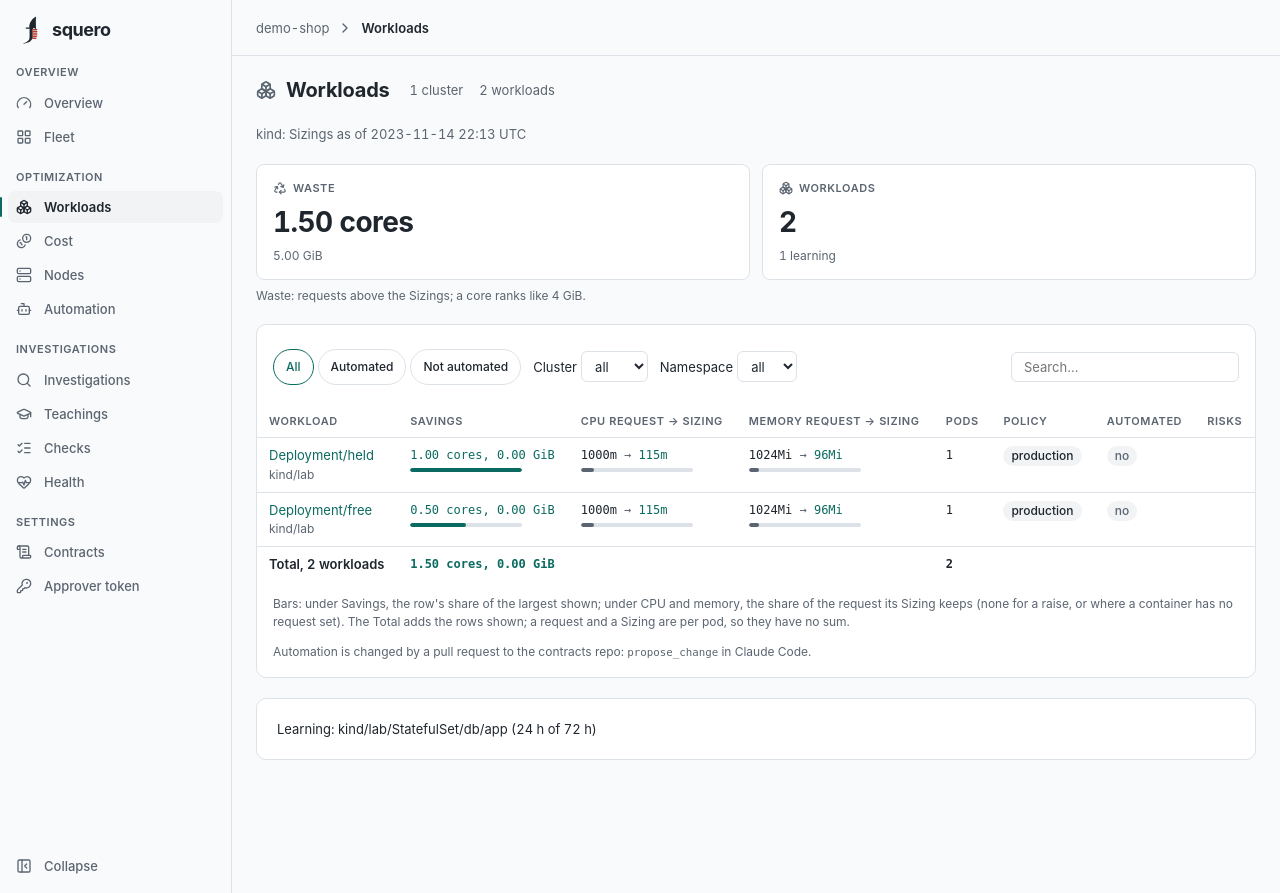
Test: a request its HPA divides by shows as held, with the change that frees it as text
Click the button "Deployment/held". click: (321, 456)
box: top-left (269, 446), bottom-right (374, 466)
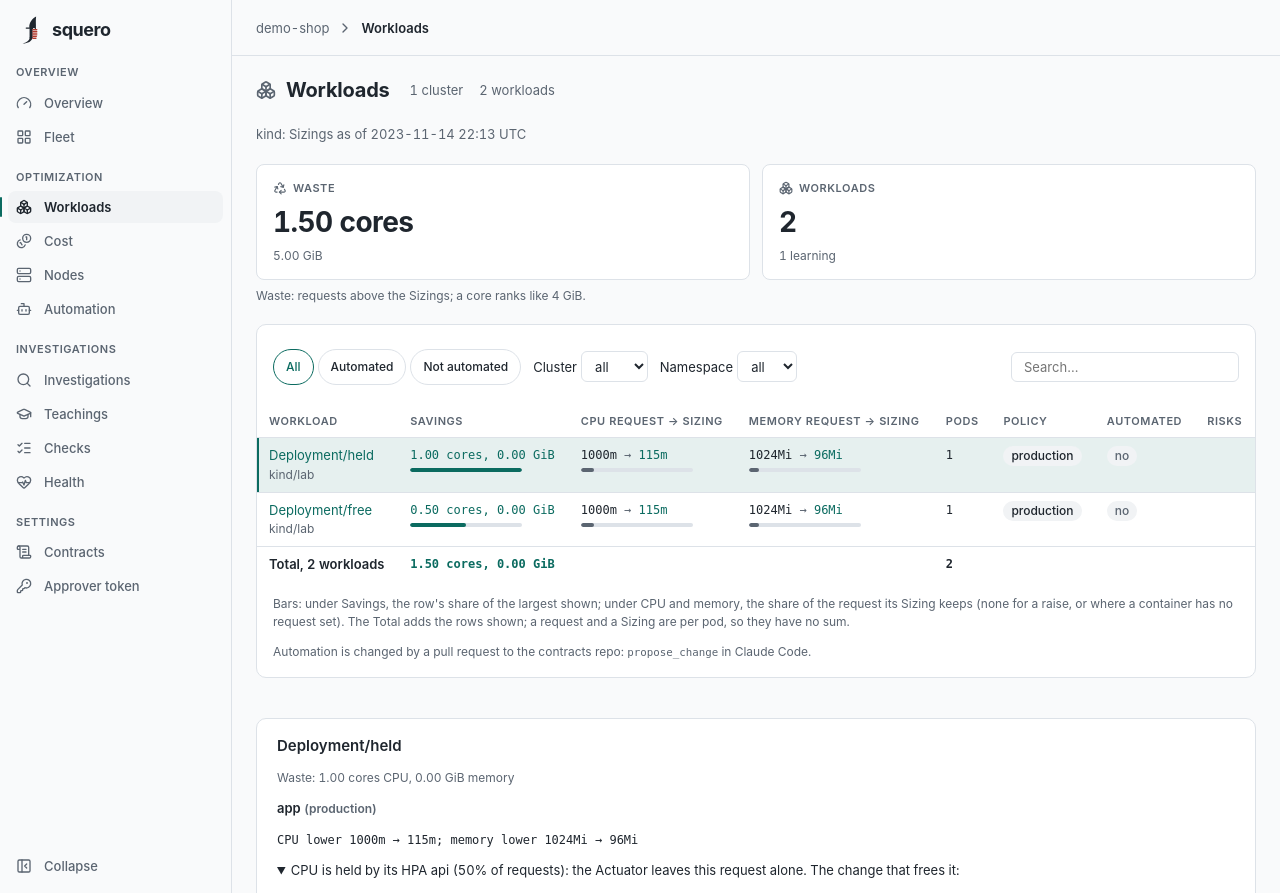
Check: the heading "CPU is held by its HPA api (50% of requests)" is shown, box top-left (291, 862), bottom-right (960, 878)
